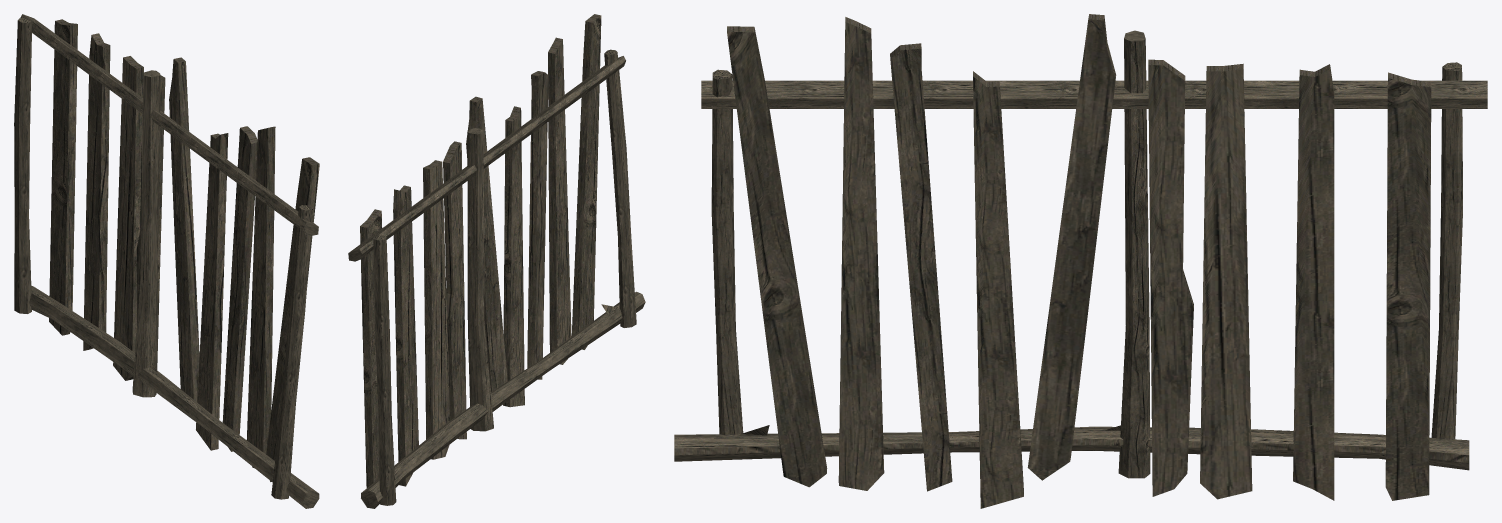
The model's file is fence_2.fbx.
3 renders of one model, left to right at view 1: azimuth 30°, elevation 25°; view 2: azimuth 150°, elevation 25°; view 3: azimuth 270°, elevation 25°, orthographic. The views are drawn at different scales.
Visible parts, largest first — view 1: fence2_LOD0; view 2: fence2_LOD0; view 3: fence2_LOD0.
Boxes of the visible parts, left/top/right/bottom form: fence2_LOD0: left=14, top=14, right=319, bottom=508; fence2_LOD0: left=348, top=14, right=645, bottom=508; fence2_LOD0: left=674, top=14, right=1487, bottom=508.
Size of what is drawn, in the model's own units: 0.1686 by 1.27 by 1.89.
